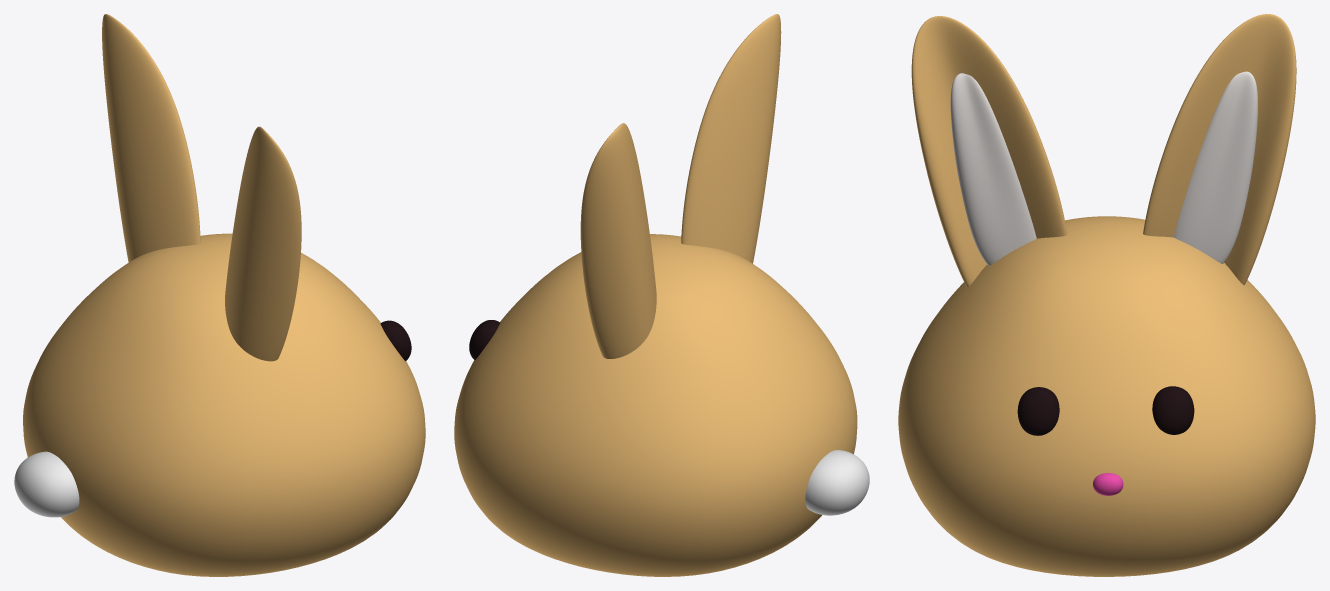
The model's file is Bunny.glb.
3 renders of one model, left to right at view 1: azimuth 30°, elevation 25°; view 2: azimuth 150°, elevation 25°; view 3: azimuth 270°, elevation 25°, orthographic. The views are drawn at different scales.
Visible parts, largest first — view 1: Cube, Plane, Cube.003, Cube.001; view 2: Cube, Plane, Cube.003, Cube.001; view 3: Cube, Plane, Plane.001, Cube.001, Cube.002.
Part boxes in pixels (x1,y1,x2,y2): Cube: (23, 233, 425, 576); Plane: (102, 14, 301, 361); Cube.003: (14, 451, 79, 517); Cube.001: (380, 320, 411, 361); Cube: (454, 234, 857, 576); Plane: (580, 14, 781, 358); Cube.003: (805, 450, 869, 515); Cube.001: (469, 320, 500, 359); Cube: (898, 216, 1315, 576); Plane: (911, 14, 1296, 287); Plane.001: (950, 71, 1257, 265); Cube.001: (1017, 386, 1194, 435); Cube.002: (1093, 473, 1123, 495).
Bounding box in the file's own units: 13.73 × 15.92 × 12.3.
